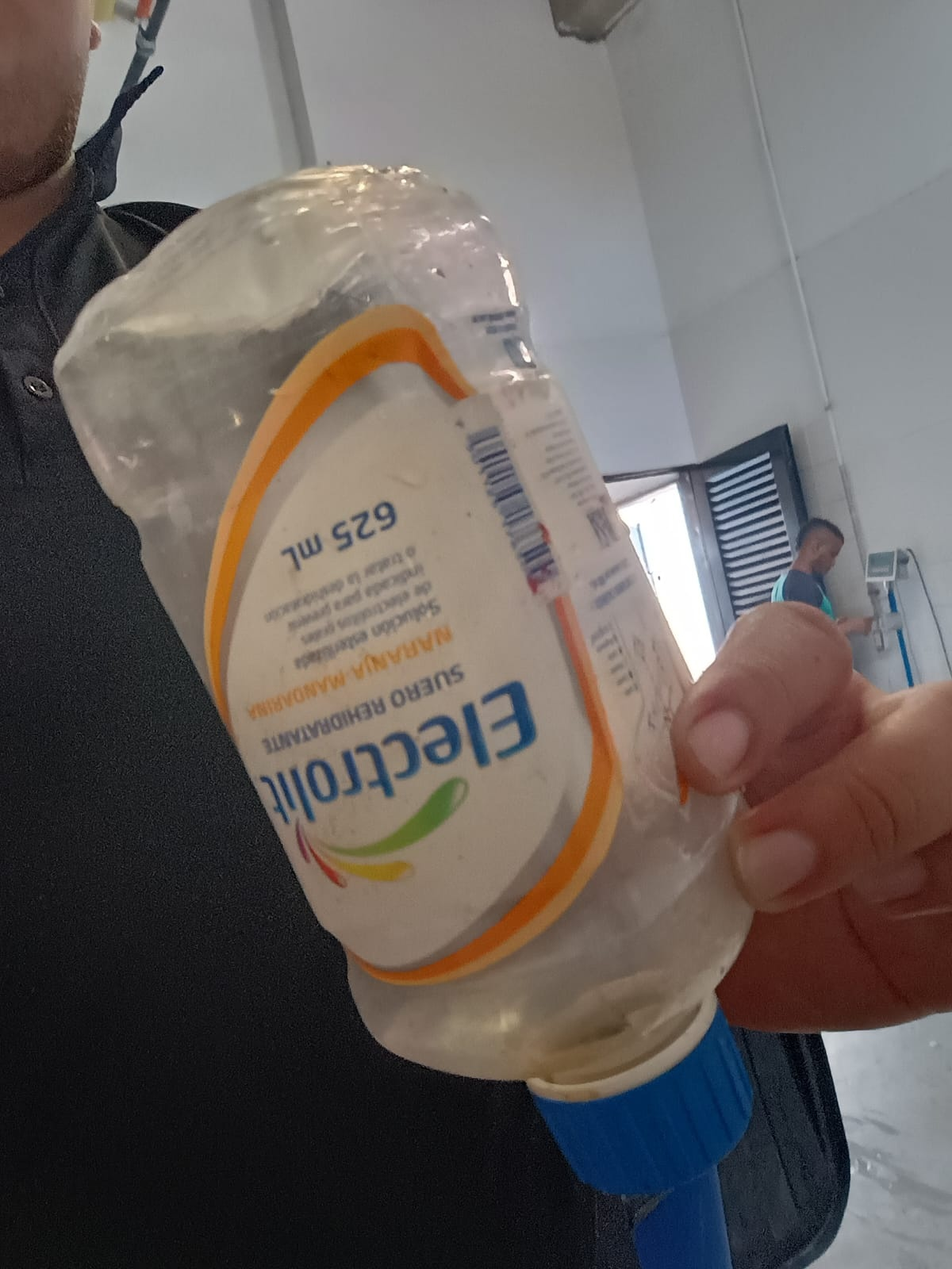Plastico: (53, 165, 756, 1191)
